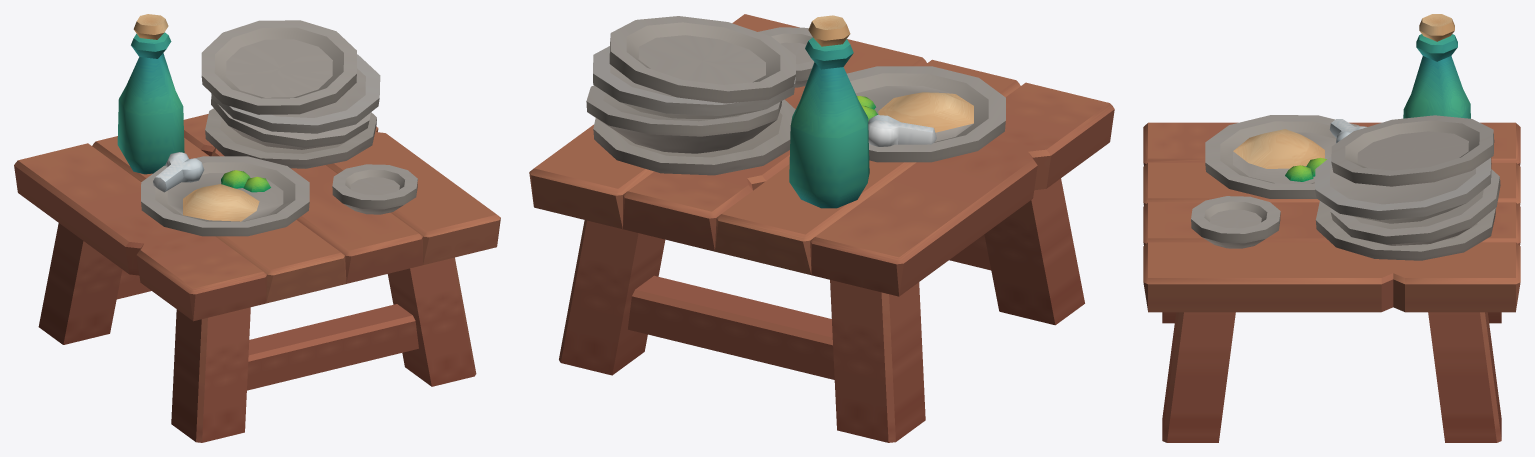
File: table_medium_decorated_A.glb
3 renders of one model, left to right at view 1: azimuth 30°, elevation 25°; view 2: azimuth 150°, elevation 25°; view 3: azimuth 270°, elevation 25°, orthographic. The views are drawn at different scales.
Visible parts, largest first — view 1: table_medium_decorated_A; view 2: table_medium_decorated_A; view 3: table_medium_decorated_A.
Part boxes in pixels (x1,y1,x2,y2): table_medium_decorated_A: (14,14,500,442); table_medium_decorated_A: (529,14,1114,442); table_medium_decorated_A: (1143,14,1520,442).
Size of the model in its own units: 2 by 1.89 by 2.
1 material, 1 textured.
